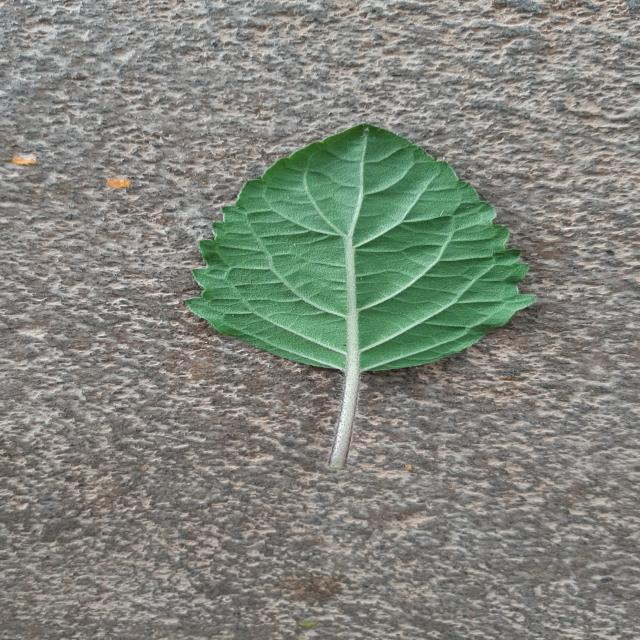tulsi: (187, 125, 534, 386)
